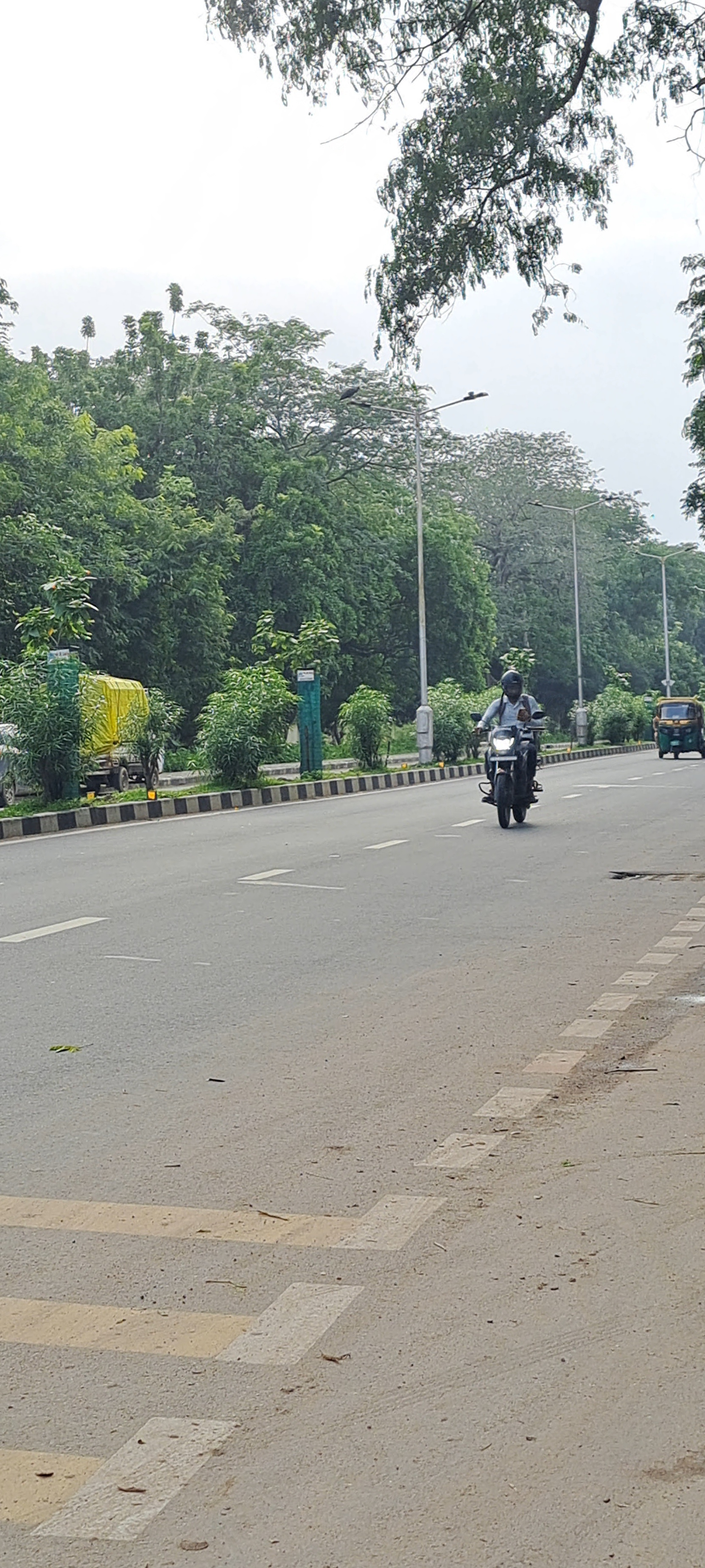BikeWithRider: (460, 656, 559, 834)
Helmet: (496, 667, 527, 705)
